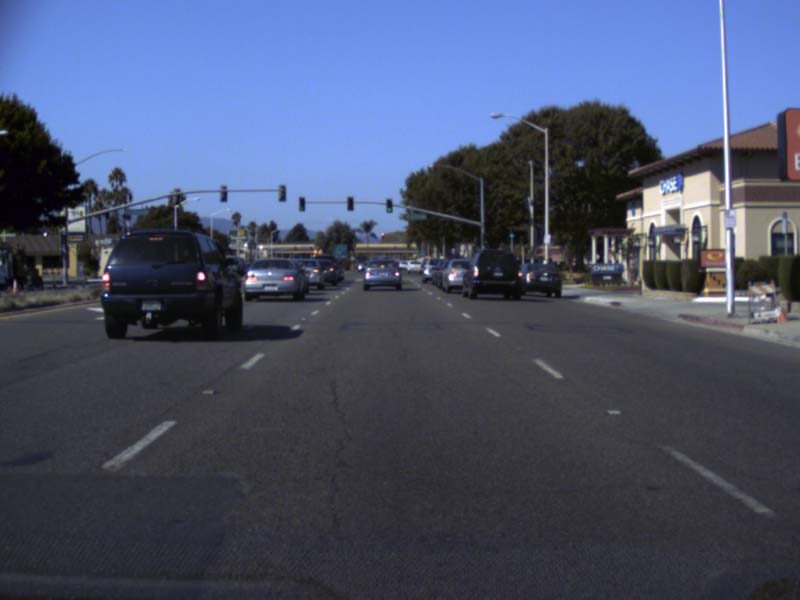Green: (385, 198, 391, 212), (508, 227, 514, 239), (299, 197, 304, 211), (483, 234, 487, 246)
